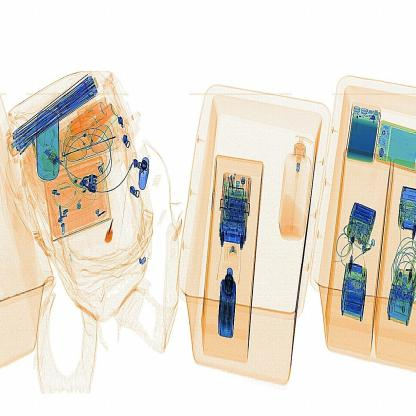wrench: (102, 216, 123, 249)
